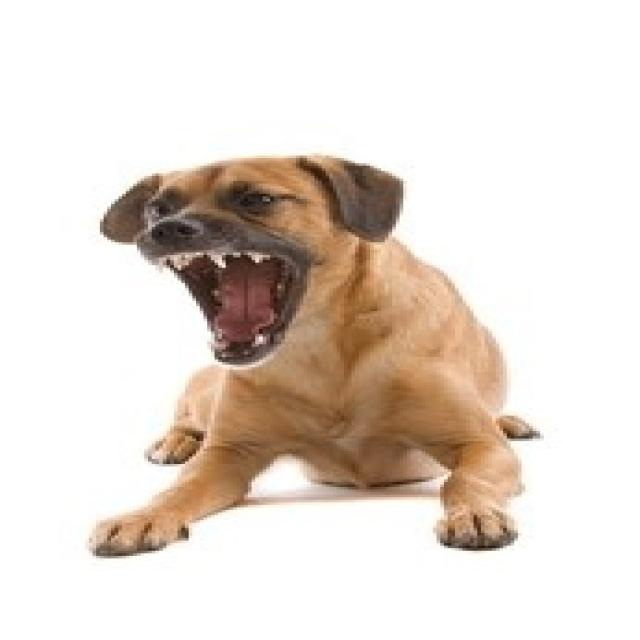angry: (55, 56, 629, 640)
